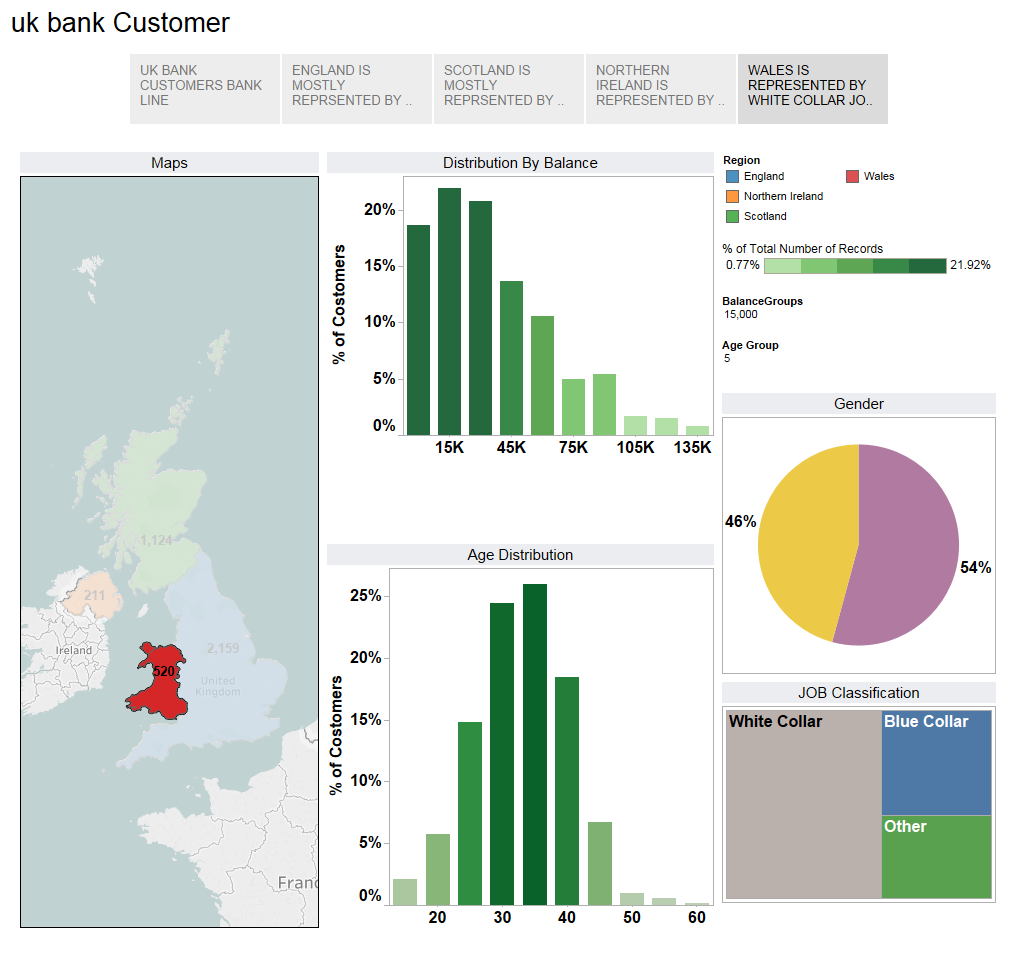

The page's visual inventory and layout, read from the dashboard file:
{"tool":"tableau","page":{"name":"Costomer Segmentation","canvas":[1000,800],"ordinal":0},"visuals":[{"type":"worksheet","title":"Maps","mark":"Multipolygon","box":[8,8,306.9,784]},{"type":"worksheet","title":"Distribution By Balance ","mark":"Automatic","rows":["Number of Records"],"cols":["Balance (bin)"],"box":[314.9,8,395.1,392]},{"type":"legend","title":"Maps","param":"[federated.06w1h3n15af2w2138ys471fpdggo].[none:Region:nk]","box":[710,8,282,86]},{"type":"legend","title":"Distribution By Balance ","param":"[federated.06w1h3n15af2w2138ys471fpdggo].[pcto:sum:Number of Records:qk]","box":[710,94,282,56]},{"type":"parameter","param":"[Parameters].[Parameter 1]","box":[710,150,282,44]},{"type":"parameter","param":"[Parameters].[Parameter 2]","box":[710,194,282,55]},{"type":"worksheet","title":"Gender","mark":"Pie","box":[710,249,282,289]},{"type":"worksheet","title":"Age Distribution","mark":"Bar","rows":["Number of Records"],"cols":["Age (bin)"],"box":[314.9,400,395.1,392]},{"type":"worksheet","title":"JOB Classification","mark":"Automatic","box":[710,538,282,254]}]}

Visuals, with their boxes on the page's 1000x800 design canvas (x1, y1, x2, y2). These are canvas units, not pixel positions in the 1016x964 screenshot, which may show the page scaled, cropped or inside an application window:
"Maps" worksheet (Multipolygon marks): (8, 8, 315, 792)
"Distribution By Balance " worksheet: (315, 8, 710, 400)
"Maps" legend: (710, 8, 992, 94)
"Distribution By Balance " legend: (710, 94, 992, 150)
parameter: (710, 150, 992, 194)
parameter: (710, 194, 992, 249)
"Gender" worksheet (Pie marks): (710, 249, 992, 538)
"Age Distribution" worksheet (Bar marks): (315, 400, 710, 792)
"JOB Classification" worksheet: (710, 538, 992, 792)
